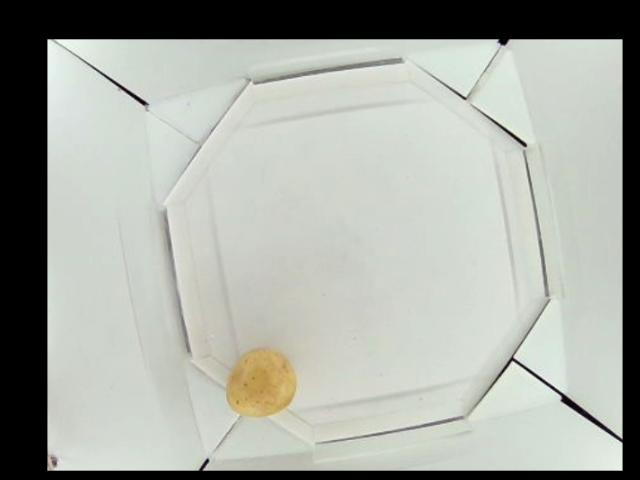Potato: (222, 349, 292, 421)
